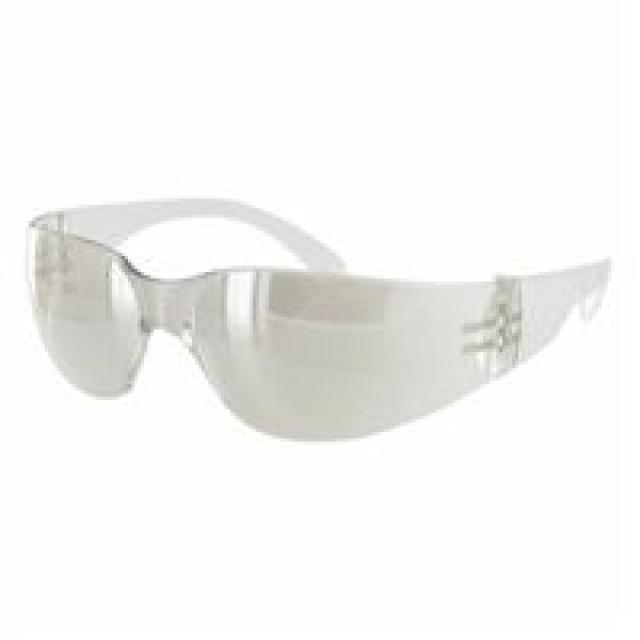Protective Glasses: (21, 166, 628, 457)
